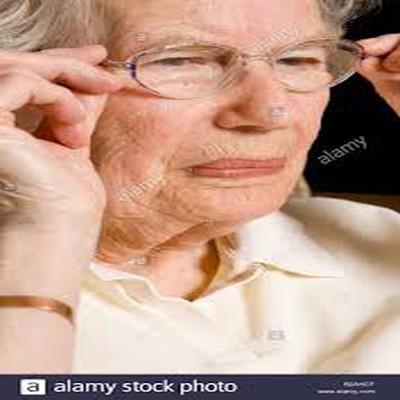eywear: (96, 40, 362, 118)
